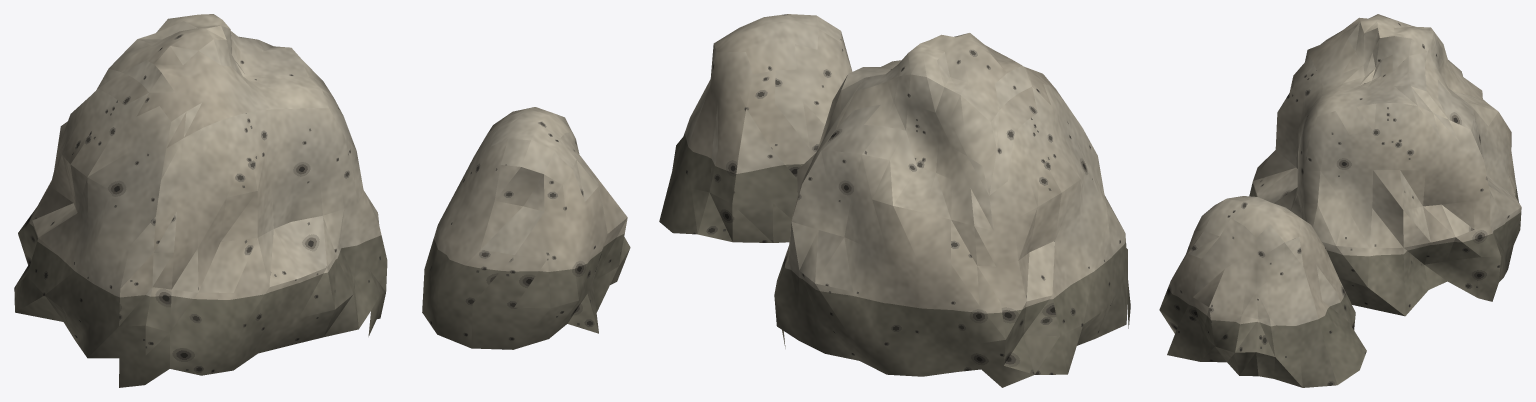
The picture shows the model from 3 angles, left to right: view 1: azimuth 30°, elevation 25°; view 2: azimuth 150°, elevation 25°; view 3: azimuth 270°, elevation 25°; orthographic projection. The views are drawn at different scales.
Visible parts, largest first — view 1: rock, rock_wet; view 2: rock, rock_wet; view 3: rock, rock_wet.
Part boxes in pixels (bbox=[...]): rock: bbox=[29, 14, 627, 299]; rock_wet: bbox=[14, 214, 630, 387]; rock: bbox=[685, 14, 1125, 313]; rock_wet: bbox=[659, 133, 1130, 387]; rock: bbox=[1168, 14, 1521, 326]; rock_wet: bbox=[1159, 184, 1521, 387].
Size of the model in its own units: 2.2 by 1.25 by 1.68.
2 materials, 2 textured.
